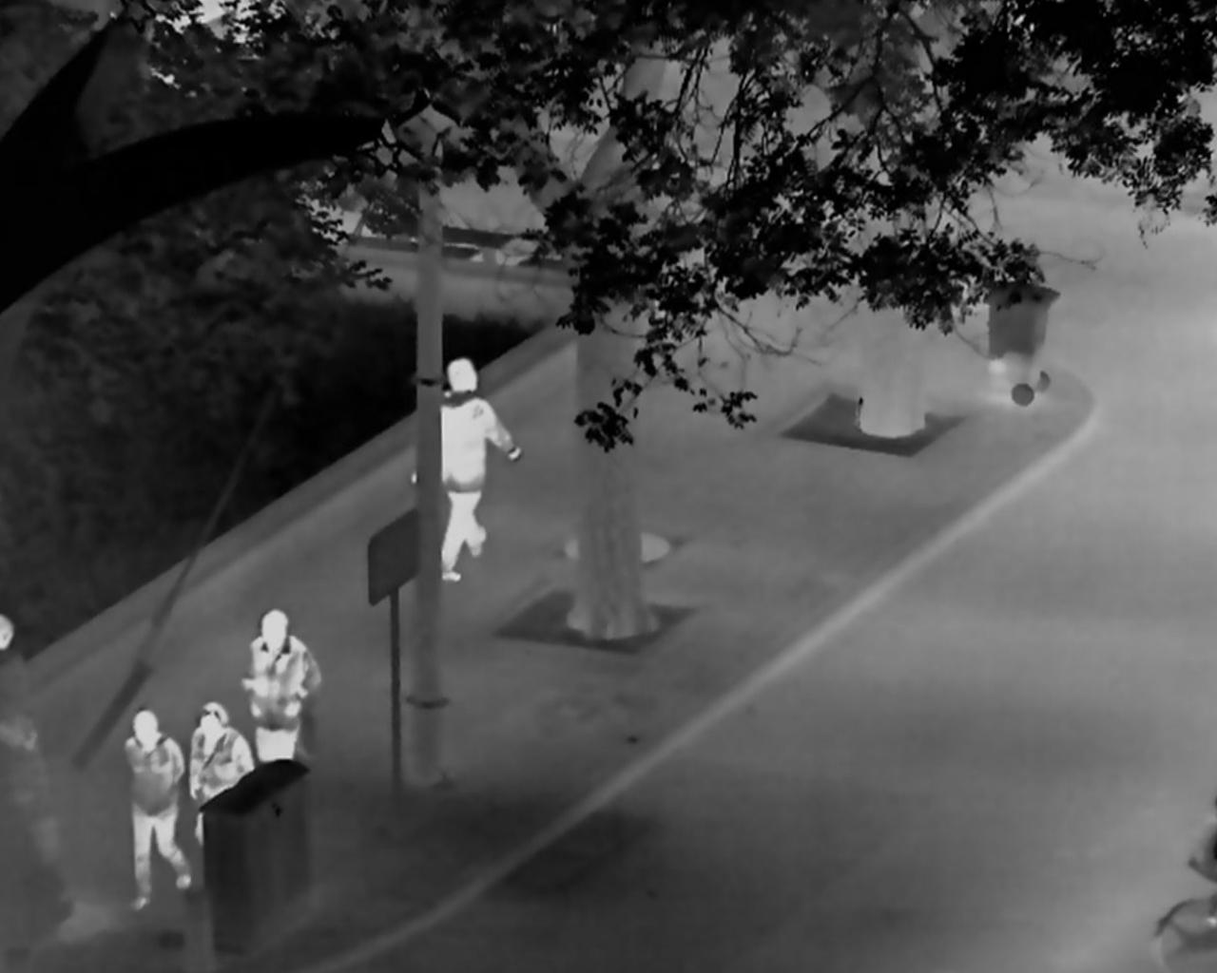person: (411, 354, 523, 582), (125, 708, 197, 908), (241, 609, 322, 764), (188, 700, 255, 846)
